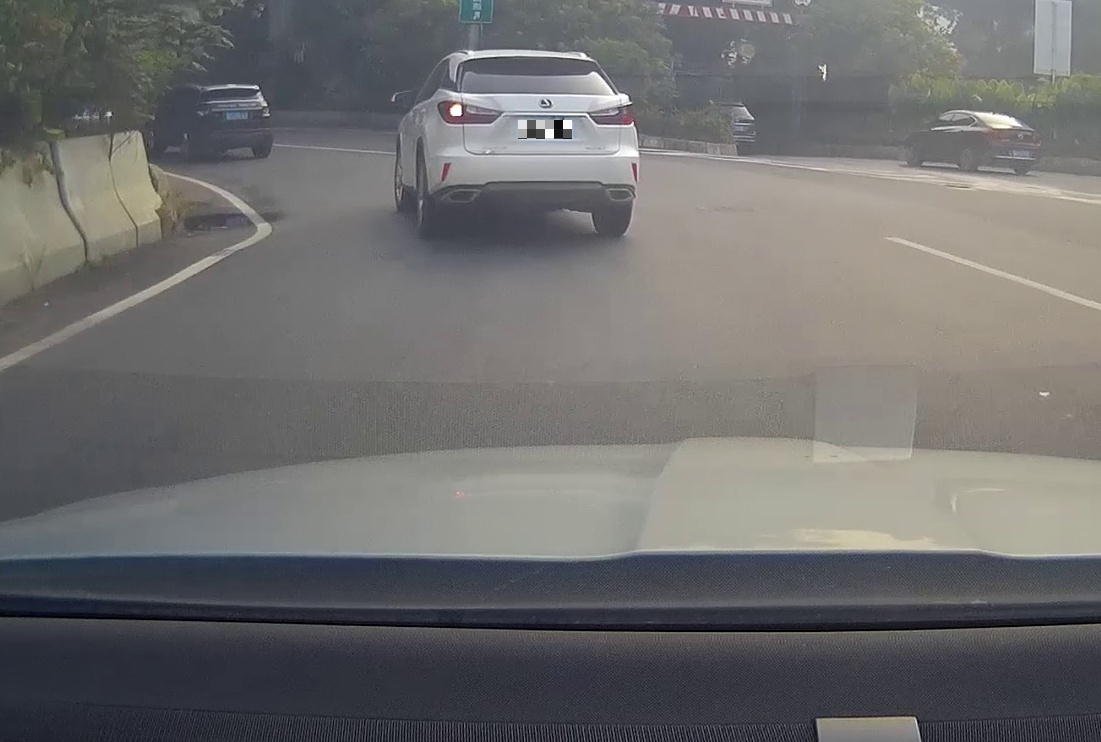L_light: (436, 101, 505, 126)
R_light: (586, 101, 636, 126)
T_light: (514, 57, 546, 61)
day-left: (427, 48, 641, 243)
plate_1: (518, 120, 572, 139)
